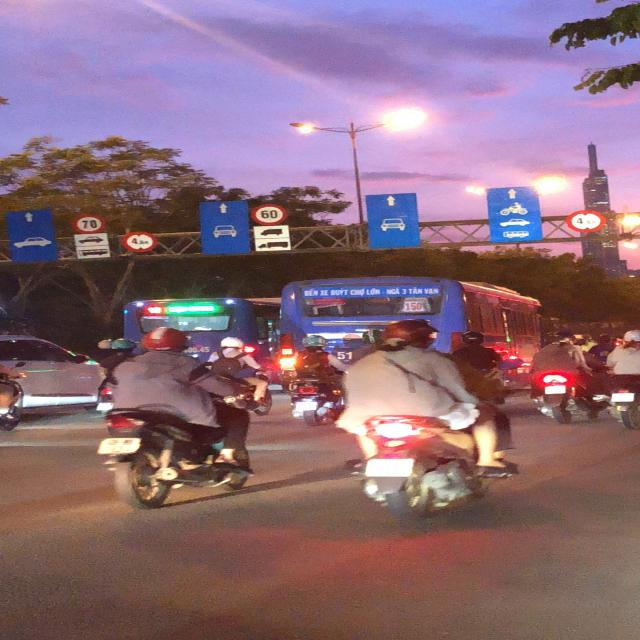Bien bao han che chieu cao: (564, 208, 612, 238), (118, 229, 161, 255)
Bien bao toc do toi da cho phep: (68, 211, 114, 234), (245, 203, 289, 227)
